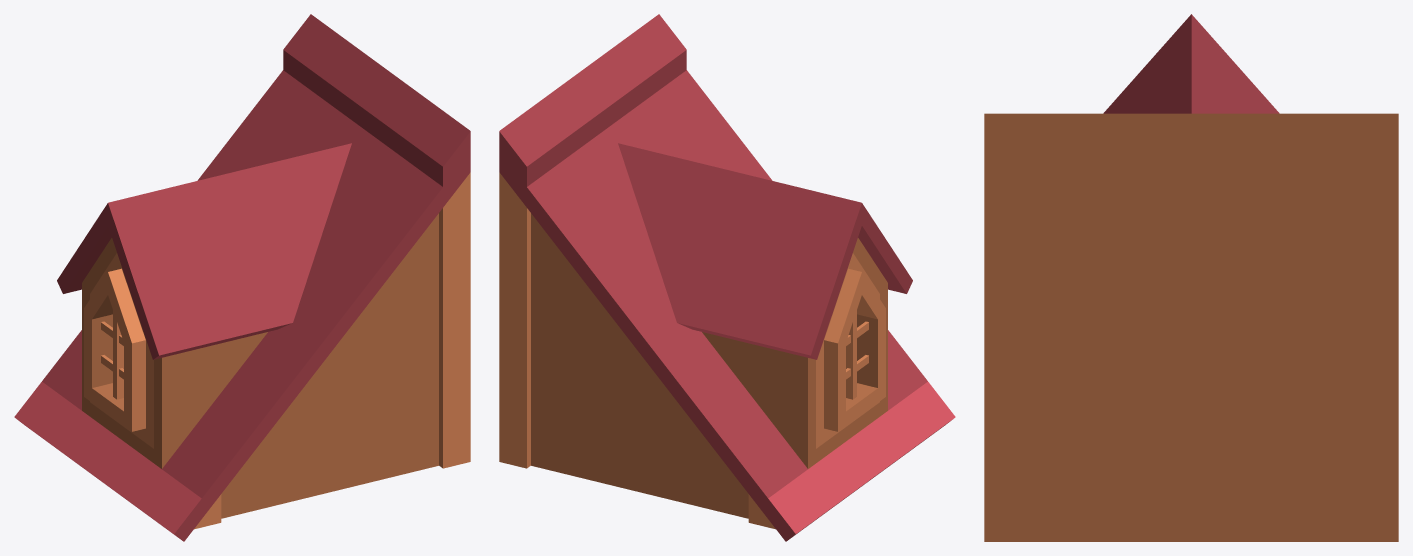
File: roofHighWindow.obj
3 views of the same model, side by side, from view 1: azimuth 30°, elevation 25°; view 2: azimuth 150°, elevation 25°; view 3: azimuth 270°, elevation 25° (orthographic). The views are drawn at different scales.
Parts seen in each view (by area): view 1: roofHighWindow; view 2: roofHighWindow; view 3: roofHighWindow.
Boxes of the visible parts, x1,y1,x2,y2 form: roofHighWindow: [14, 14, 470, 541]; roofHighWindow: [499, 14, 955, 541]; roofHighWindow: [984, 14, 1398, 541].
Size of the model in its own units: 1.07 by 1.18 by 1.
